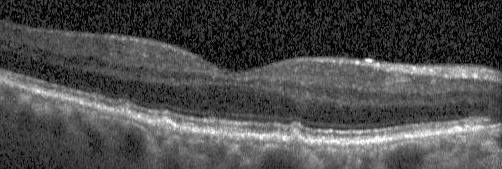retinal_drusen: (114, 106, 133, 117), (153, 120, 175, 128), (289, 131, 302, 144), (269, 135, 279, 142)
